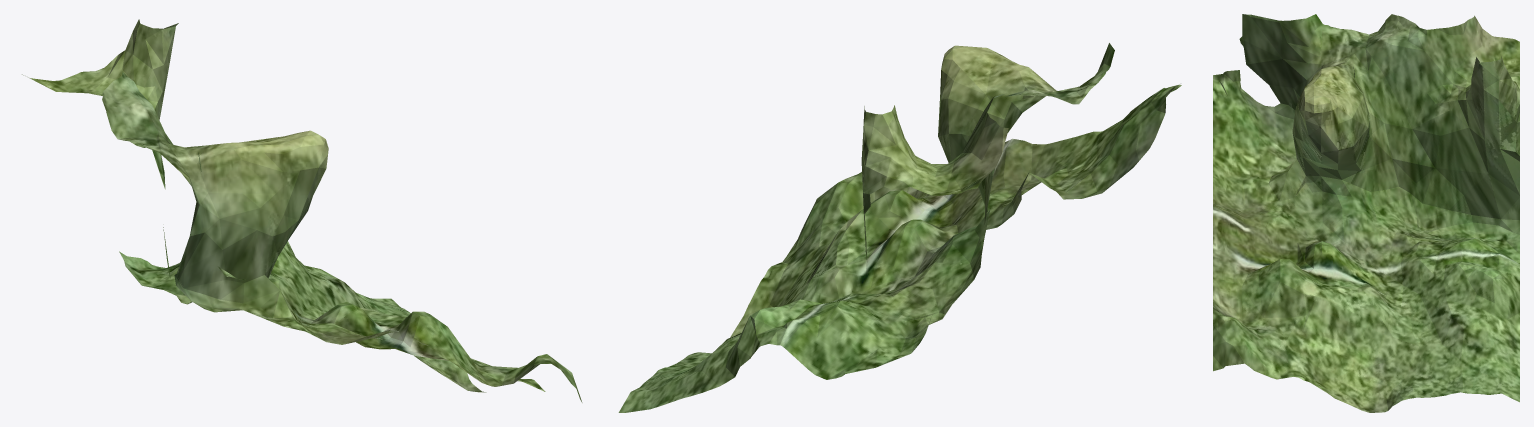
The picture shows the model from 3 angles, left to right: view 1: azimuth 30°, elevation 25°; view 2: azimuth 150°, elevation 25°; view 3: azimuth 270°, elevation 25°; orthographic projection. The views are drawn at different scales.
Size of the model in its own units: 2.95 by 2.86 by 2.95.
Materials: 4 (4 with a texture image).
